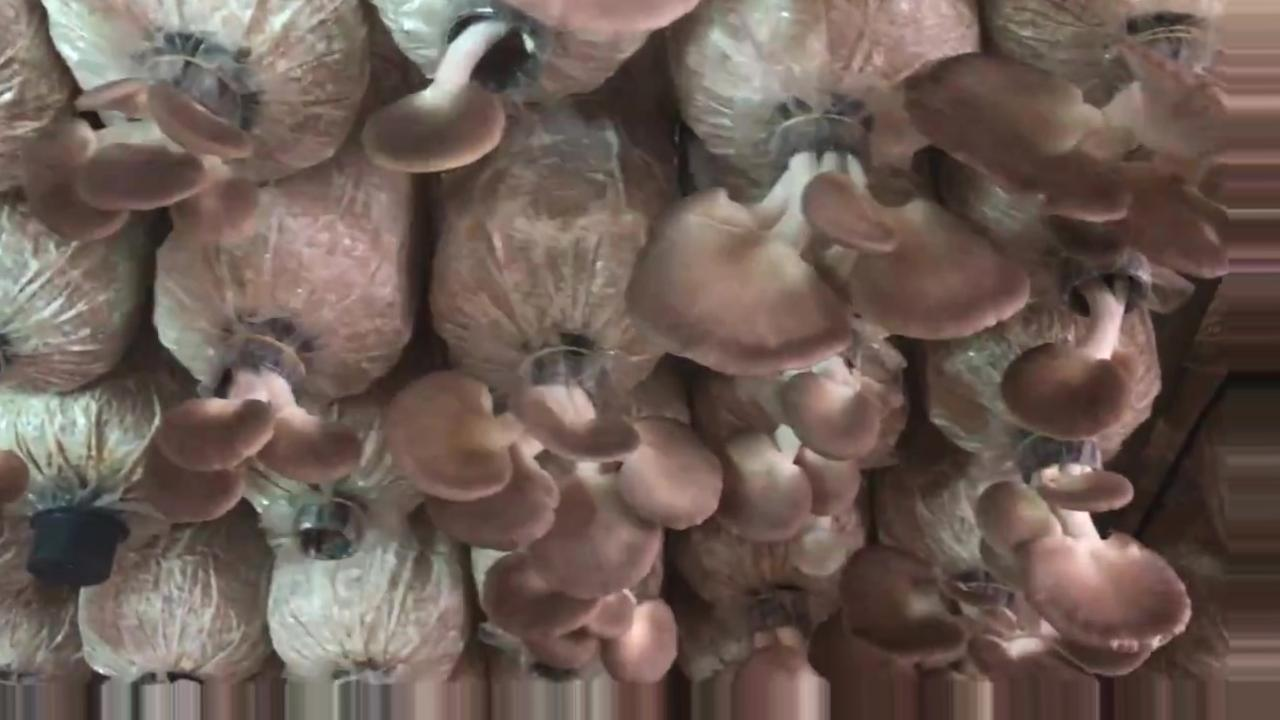nam: (626, 117, 1027, 375), (393, 349, 726, 595), (905, 30, 1232, 275), (978, 438, 1191, 677), (24, 46, 257, 241), (142, 331, 357, 520), (812, 549, 1097, 674), (365, 1, 544, 172), (720, 355, 881, 537), (484, 555, 677, 681), (731, 589, 831, 720)
